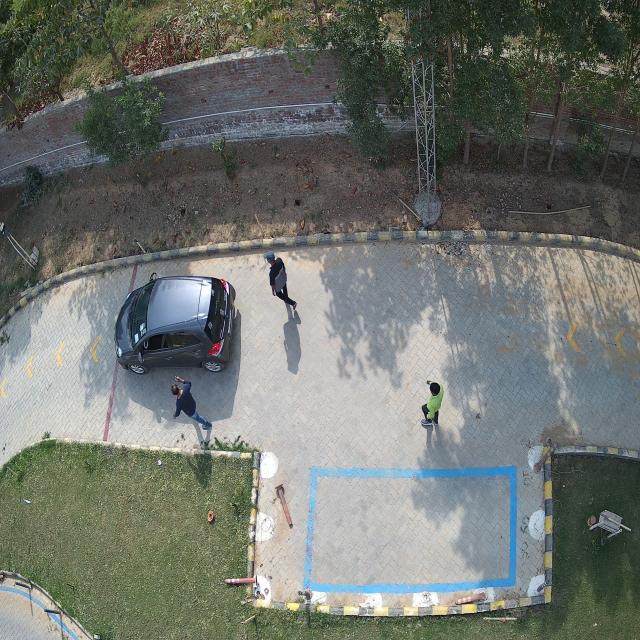car: (114, 273, 236, 375)
